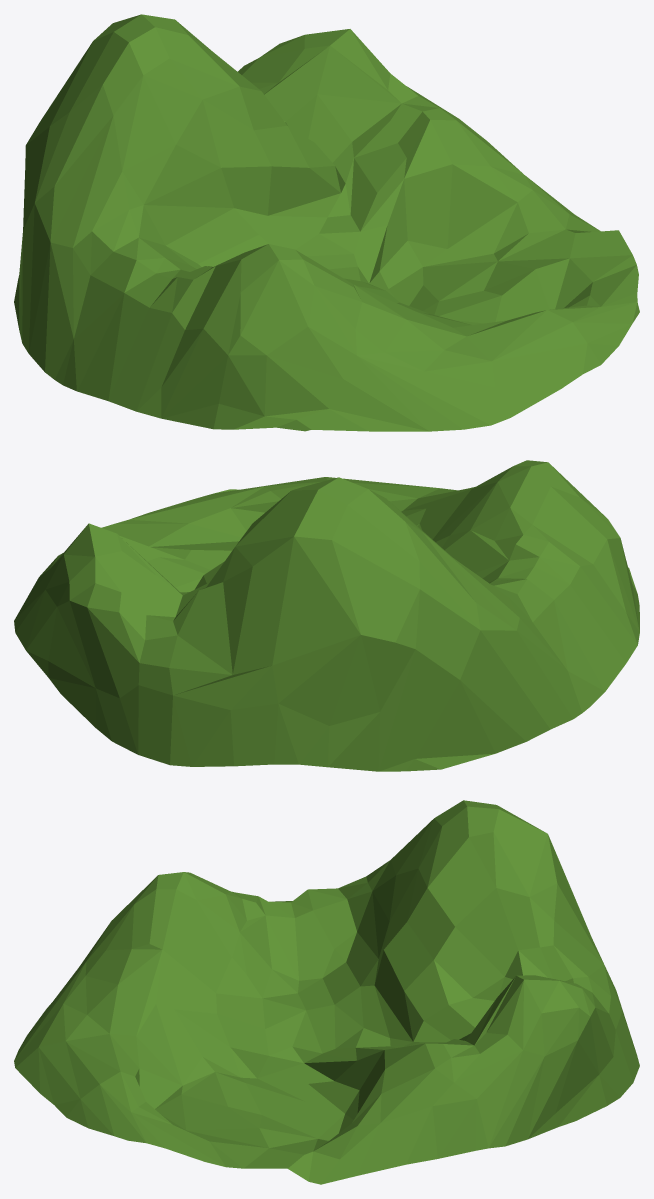
The model's file is Mountain-Island-L3.fbx.
3 renders of one model, top to bottom at view 1: azimuth 30°, elevation 25°; view 2: azimuth 150°, elevation 25°; view 3: azimuth 270°, elevation 25°, orthographic. The views are drawn at different scales.
Parts seen in each view (by area): view 1: Landscape.001; view 2: Landscape.001; view 3: Landscape.001.
Boxes of the visible parts, x1,y1,x2,y2 form: Landscape.001: [14, 14, 639, 431]; Landscape.001: [14, 460, 639, 771]; Landscape.001: [14, 800, 639, 1184].
Bounding box in the file's own units: 5885 × 2662 × 6436.
